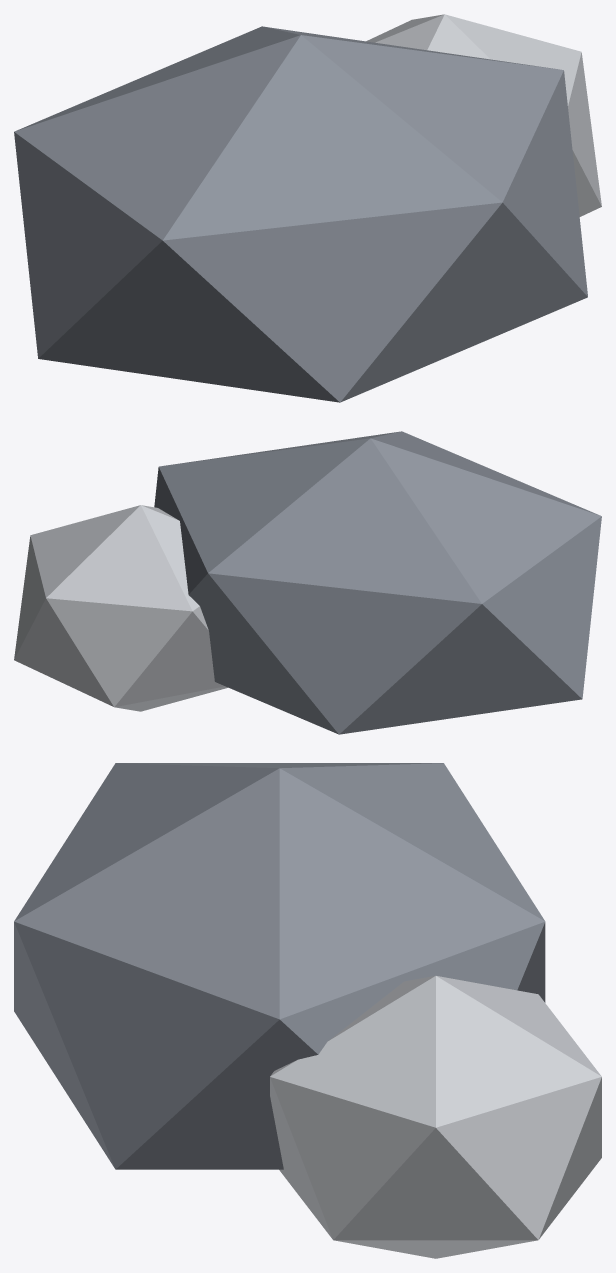
Rendered from rock_small.glb.
3 views of the same model, one above another, from view 1: azimuth 30°, elevation 25°; view 2: azimuth 150°, elevation 25°; view 3: azimuth 270°, elevation 25° (orthographic). The views are drawn at different scales.
Parts seen in each view (by area): view 1: rock_small; view 2: rock_small; view 3: rock_small.
Part boxes in pixels (bbox=[...]): rock_small: bbox=[14, 14, 601, 402]; rock_small: bbox=[14, 431, 601, 734]; rock_small: bbox=[14, 763, 601, 1258].
Bounding box in the file's own units: 1 × 0.56 × 0.7529.
Materials: 1 (1 with a texture image).
